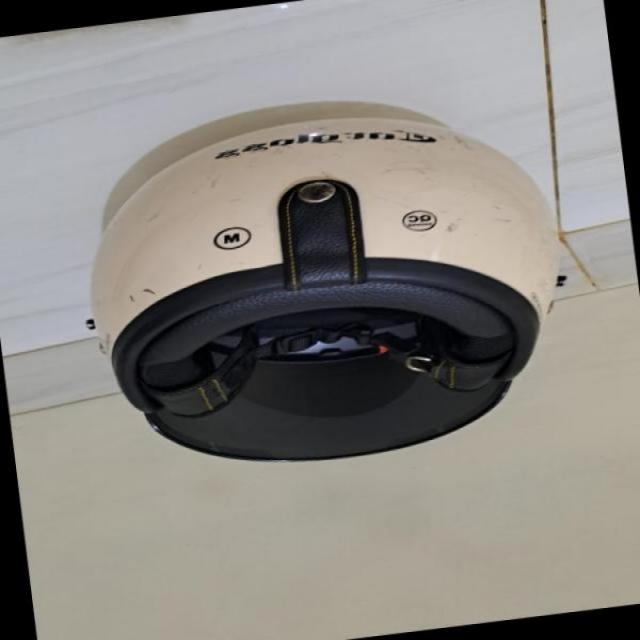Helmet: (84, 92, 566, 469)
